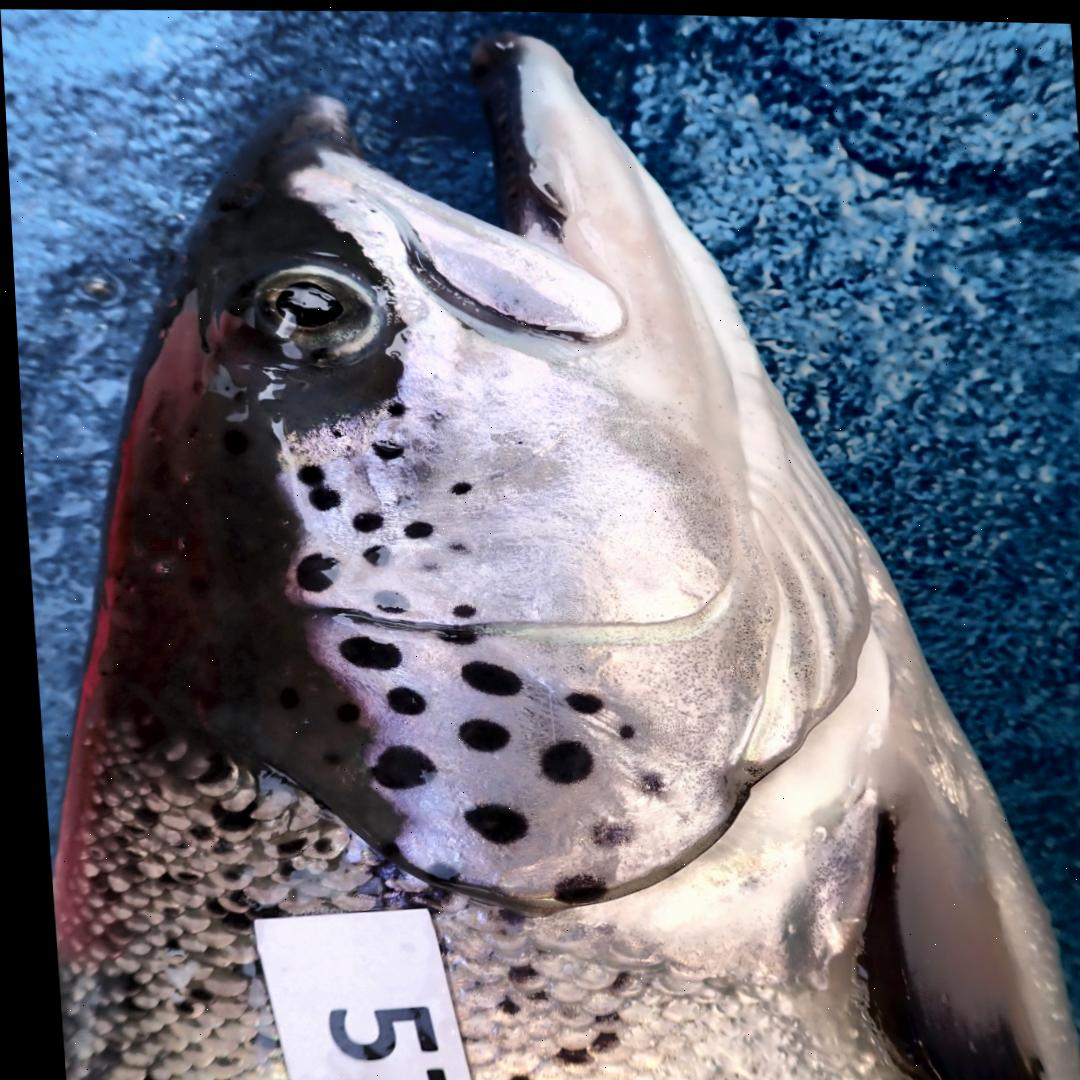spot: (362, 744, 427, 788), (454, 802, 518, 842), (532, 737, 585, 782), (454, 659, 514, 694), (332, 635, 394, 668), (450, 717, 502, 751), (543, 871, 598, 902), (288, 553, 333, 589), (583, 819, 624, 846), (379, 685, 418, 713), (557, 690, 595, 712), (366, 589, 402, 611), (303, 486, 335, 510), (430, 627, 470, 643), (366, 440, 399, 459), (346, 511, 377, 531), (292, 463, 319, 485), (418, 861, 449, 880), (357, 544, 384, 565), (632, 770, 656, 793), (398, 520, 427, 537), (446, 602, 469, 616), (382, 399, 402, 415), (444, 480, 467, 493), (389, 493, 409, 506), (610, 722, 627, 737), (444, 541, 462, 551), (415, 562, 434, 570), (326, 424, 337, 436)
